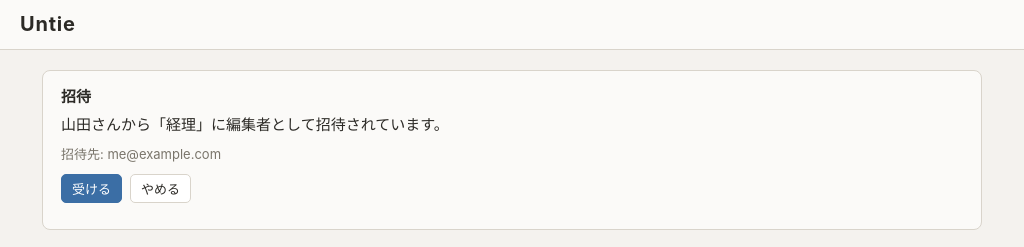
Test: InvitePage › 受けたあとに外された人の古い招待は、info は読めるが、受けると 410 invitation_used で使用済みと出す
Click the button "受ける".
click(92, 189)  # box [61,174,122,203]
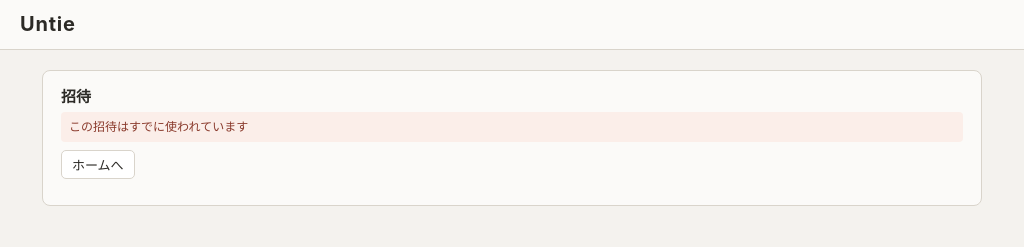
Expected: the text "この招待はすでに使われています" is shown, [61,112,963,142]
